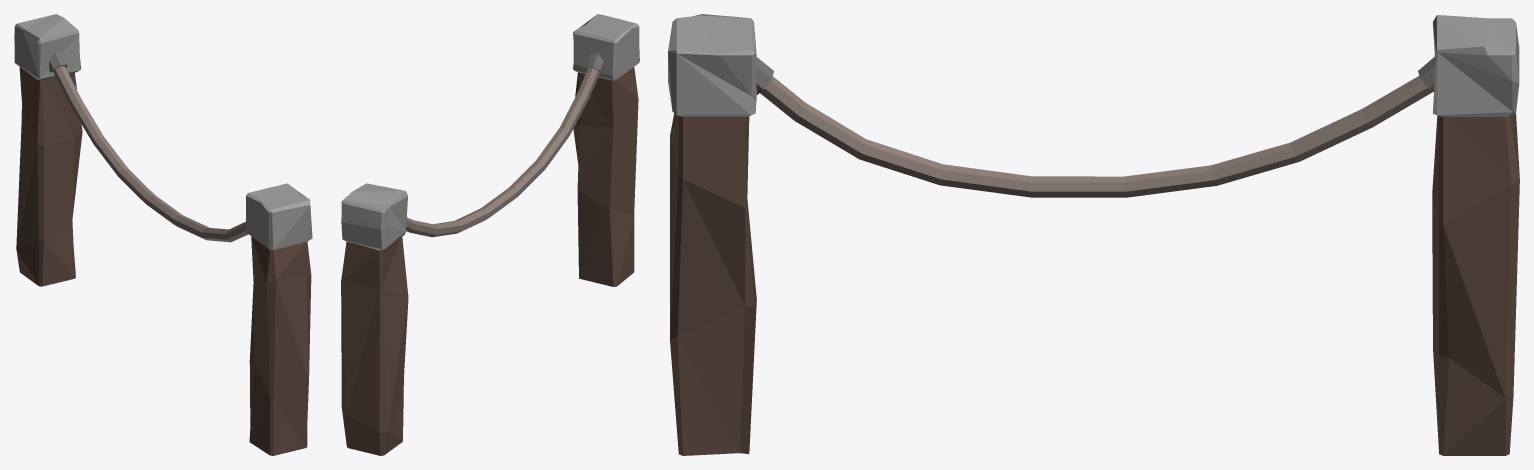
File: barriere_milieu.fbx
3 views of the same model, side by side, from view 1: azimuth 30°, elevation 25°; view 2: azimuth 150°, elevation 25°; view 3: azimuth 270°, elevation 25° (orthographic). The views are drawn at different scales.
Visible parts, largest first — view 1: Barriere1; view 2: Barriere1; view 3: Barriere1.
Part boxes in pixels (bbox=[...]): Barriere1: bbox=[14, 14, 312, 455]; Barriere1: bbox=[341, 14, 639, 455]; Barriere1: bbox=[668, 14, 1519, 455].
Bounding box in the file's own units: 18.06 × 90.3 × 170.
